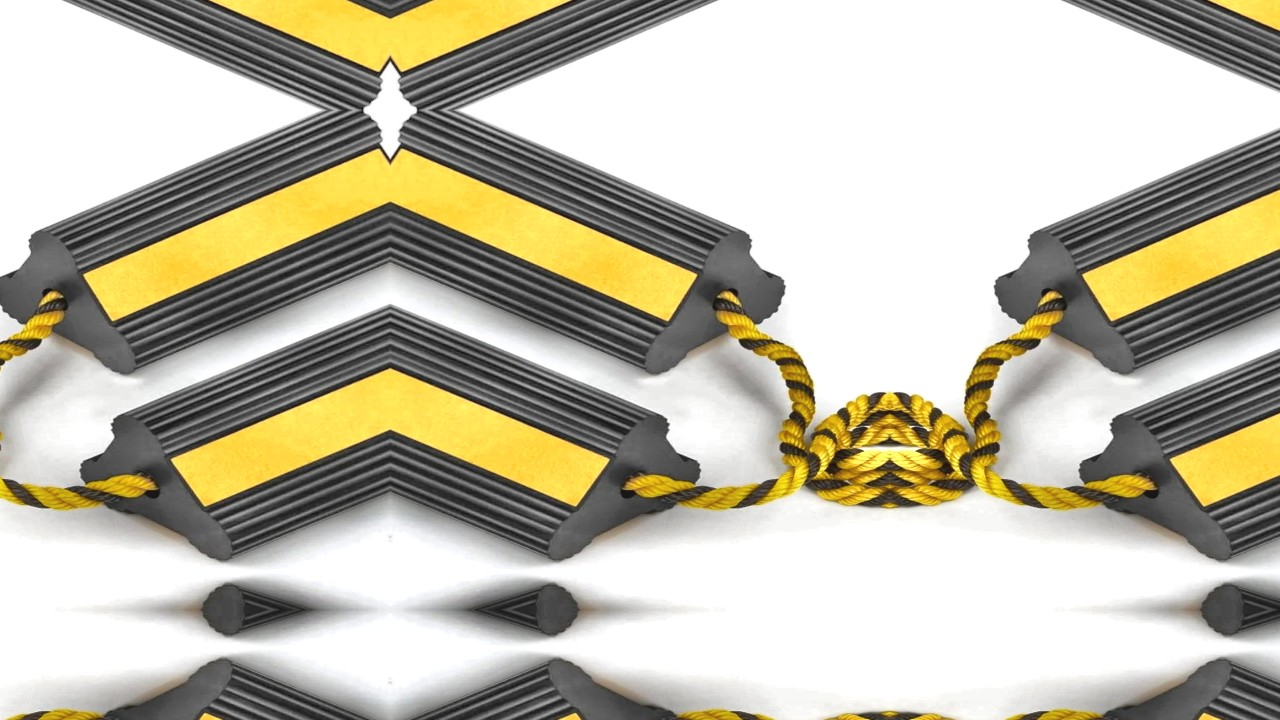chock: (390, 110, 820, 423), (44, 255, 390, 610), (390, 255, 736, 610), (0, 110, 390, 423), (960, 110, 1280, 423), (1044, 255, 1280, 610), (390, 0, 820, 110), (0, 0, 390, 110), (44, 610, 390, 720), (390, 610, 736, 720), (960, 0, 1280, 110), (102, 512, 390, 610), (390, 512, 678, 610), (102, 610, 390, 708), (390, 610, 678, 708), (1044, 610, 1280, 720), (1102, 512, 1280, 610), (1102, 610, 1280, 708)
